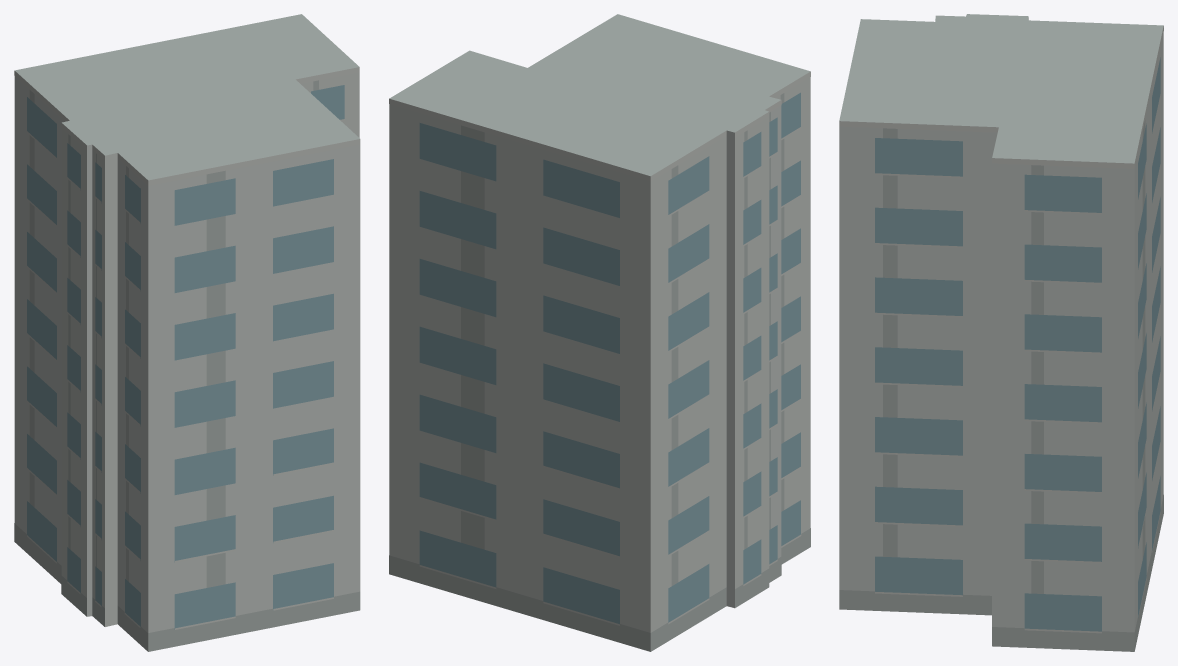
Rendered from survey-upis-32694313.glb.
3 views of the same model, side by side, from view 1: azimuth 30°, elevation 25°; view 2: azimuth 150°, elevation 25°; view 3: azimuth 270°, elevation 25° (orthographic). The views are drawn at different scales.
Parts seen in each view (by area): view 1: survey-upis-32694313.tmp; view 2: survey-upis-32694313.tmp; view 3: survey-upis-32694313.tmp.
Part boxes in pixels (x1=…): survey-upis-32694313.tmp: x1=14, y1=14, x2=360, y2=651; survey-upis-32694313.tmp: x1=389, y1=14, x2=810, y2=651; survey-upis-32694313.tmp: x1=839, y1=14, x2=1163, y2=651.
Bounding box in the file's own units: 14.03 × 21.35 × 12.87.
